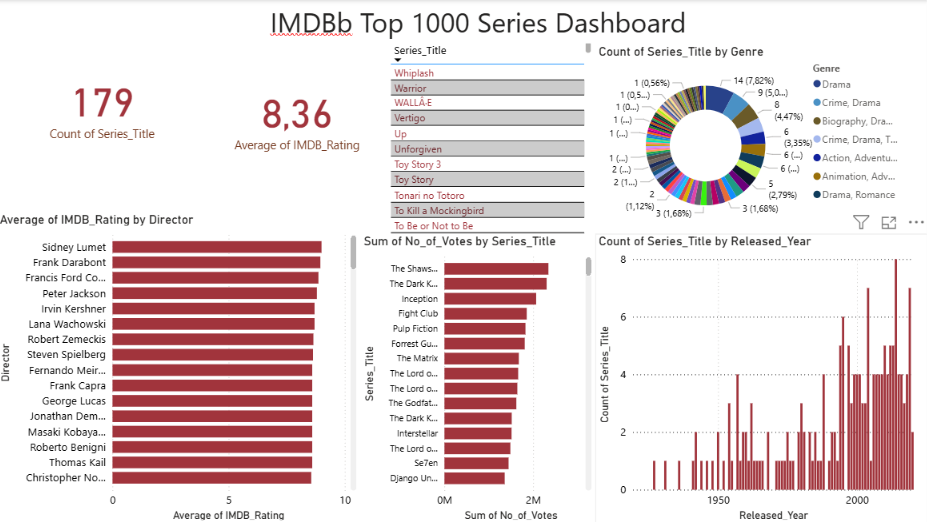

The dashboard page shown, as its layout file describes it:
{"tool":"powerbi","page":{"name":"Page 1","canvas":[1280,720],"ordinal":0},"visuals":[{"type":"tableEx","fields":{"Values":["olist imdb_top_1000.Series_Title"]},"box":[535.2,52.1,286.8,277.2],"z":1},{"type":"card","fields":{"Values":["Avg(olist imdb_top_1000.IMDB_Rating)"]},"box":[290.9,0,244.3,321.1],"z":2},{"type":"donutChart","fields":{"Category":["olist imdb_top_1000.Genre"],"Y":["CountNonNull(olist imdb_top_1000.Series_Title)"]},"box":[822,60.4,429.5,260.7],"z":3},{"type":"clusteredColumnChart","fields":{"Category":["olist imdb_top_1000.Released_Year"],"Y":["CountNonNull(olist imdb_top_1000.Series_Title)"]},"box":[822,321.1,458.3,399.3],"z":4},{"type":"clusteredBarChart","fields":{"Category":["olist imdb_top_1000.Director"],"Y":["Avg(olist imdb_top_1000.IMDB_Rating)"]},"box":[0,290.9,499.5,429.5],"z":5},{"type":"card","fields":{"Values":["CountNonNull(olist imdb_top_1000.Series_Title)"]},"box":[0,0,290.9,290.9],"z":6},{"type":"clusteredBarChart","fields":{"Category":["olist imdb_top_1000.Series_Title"],"Y":["Sum(olist imdb_top_1000.No_of_Votes)"]},"box":[499.5,321.1,322.5,399.3],"z":7},{"type":"textbox","box":[278.6,0,765.7,60.4],"z":8}]}

Visuals, with their boxes in screenshot pixels (x1, y1, x2, y2), scaled from the page's 1280x720 canvas onto the 927x522 screenshot:
tableEx - olist imdb_top_1000.Series_Title: x1=388 y1=38 x2=595 y2=239
card - Avg(olist imdb_top_1000.IMDB_Rating): x1=211 y1=0 x2=388 y2=233
donutChart - olist imdb_top_1000.Genre x CountNonNull(olist imdb_top_1000.Series_Title): x1=595 y1=44 x2=906 y2=233
clusteredColumnChart - olist imdb_top_1000.Released_Year x CountNonNull(olist imdb_top_1000.Series_Title): x1=595 y1=233 x2=926 y2=521
clusteredBarChart - olist imdb_top_1000.Director x Avg(olist imdb_top_1000.IMDB_Rating): x1=0 y1=211 x2=362 y2=521
card - CountNonNull(olist imdb_top_1000.Series_Title): x1=0 y1=0 x2=211 y2=211
clusteredBarChart - olist imdb_top_1000.Series_Title x Sum(olist imdb_top_1000.No_of_Votes): x1=362 y1=233 x2=595 y2=521
textbox: x1=202 y1=0 x2=756 y2=44
